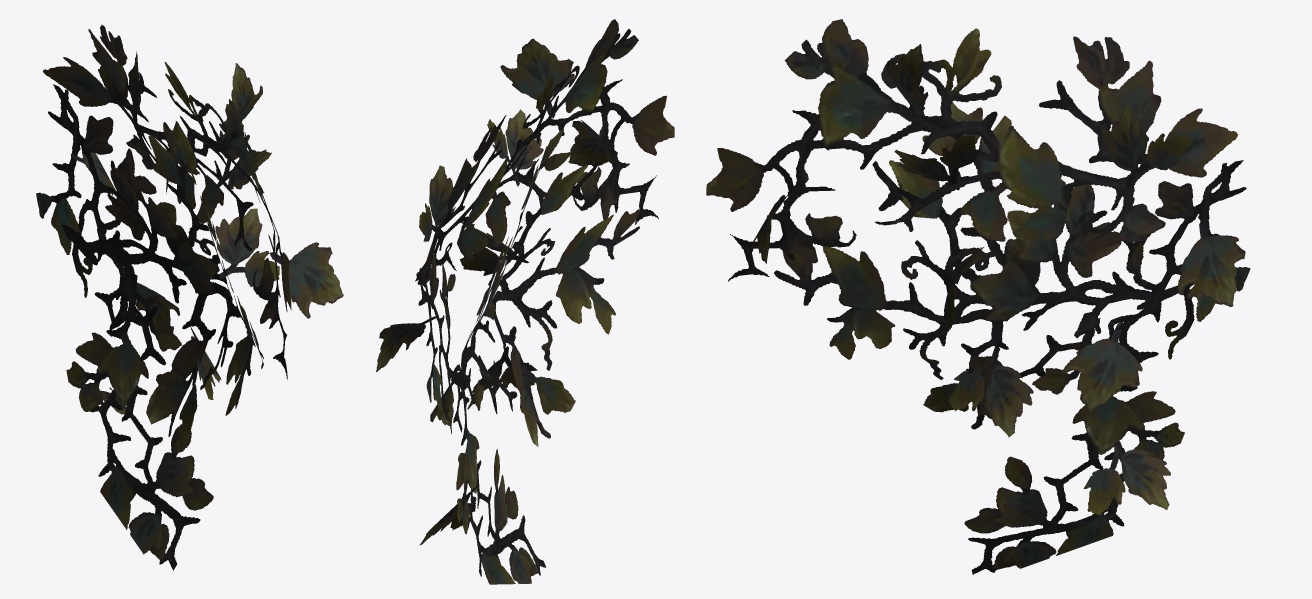
3 views of the same model, side by side, from view 1: azimuth 30°, elevation 25°; view 2: azimuth 150°, elevation 25°; view 3: azimuth 270°, elevation 25° (orthographic). The views are drawn at different scales.
Size of the model in its own units: 1.18 by 5.26 by 4.95.
1 material, 1 textured.
